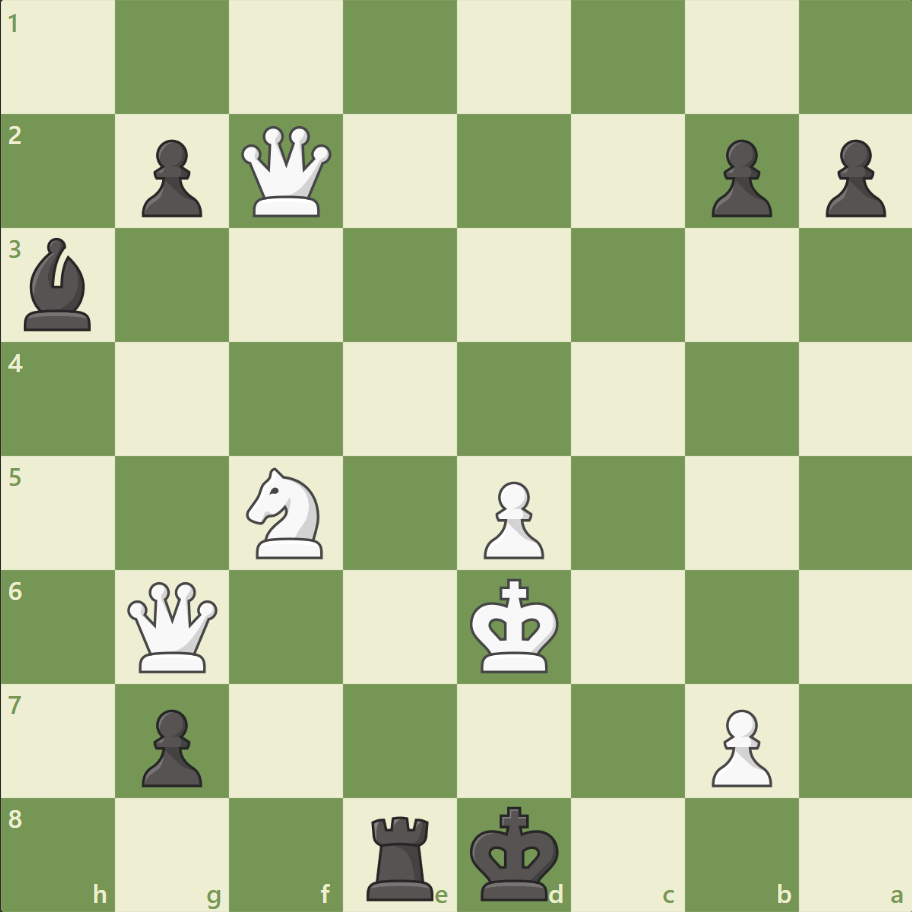K: (465, 571, 565, 679)
N: (238, 461, 335, 564)
P: (701, 700, 776, 791), (474, 473, 549, 564)
Q: (124, 576, 223, 676), (237, 122, 336, 222)
b: (17, 233, 101, 336)
k: (465, 798, 565, 906)
p: (133, 700, 208, 791), (701, 132, 776, 223), (133, 132, 208, 223), (815, 132, 889, 223)
r: (360, 806, 442, 904)
